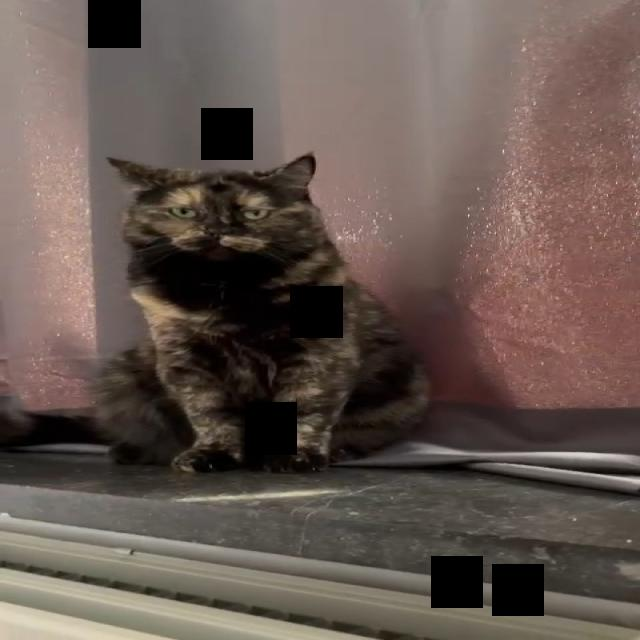authorized: (89, 151, 432, 474)
